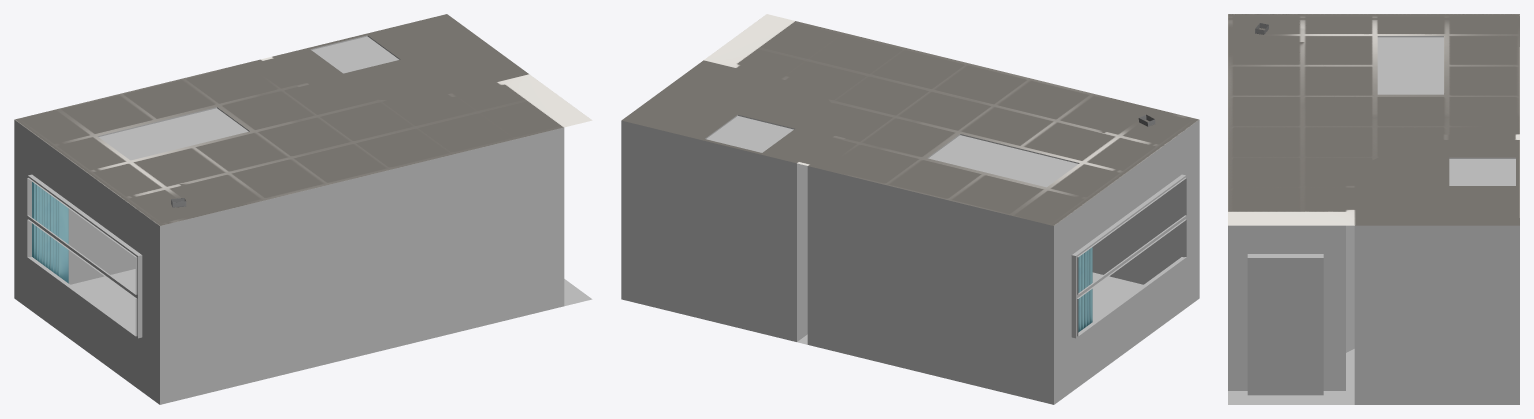
Rendered from HospitalRoom.fbx.
3 renders of one model, left to right at view 1: azimuth 30°, elevation 25°; view 2: azimuth 150°, elevation 25°; view 3: azimuth 270°, elevation 25°, orthographic.
Parts seen in each view (by area): view 1: walls1, ceiling, ceilingTiles, curtainRoom, floor; view 2: walls1, ceiling, ceilingTiles, floor, curtainRoom; view 3: ceiling, walls1, door, ceilingTiles, floor.
Boxes of the visible parts, left/top/right/bottom form: walls1: left=14, top=120, right=564, bottom=404; ceiling: left=14, top=14, right=592, bottom=225; ceilingTiles: left=97, top=35, right=400, bottom=160; curtainRoom: left=32, top=182, right=68, bottom=283; floor: left=70, top=269, right=592, bottom=332; walls1: left=621, top=120, right=1199, bottom=404; ceiling: left=621, top=14, right=1199, bottom=225; ceilingTiles: left=705, top=115, right=1079, bottom=187; floor: left=797, top=272, right=1143, bottom=344; curtainRoom: left=1078, top=247, right=1092, bottom=332; ceiling: left=1228, top=14, right=1519, bottom=225; walls1: left=1228, top=225, right=1519, bottom=404; door: left=1247, top=258, right=1323, bottom=395; ceilingTiles: left=1377, top=36, right=1515, bottom=185; floor: left=1228, top=349, right=1354, bottom=404.
Bounding box in the file's own units: 6.79 × 2.73 × 3.91.
